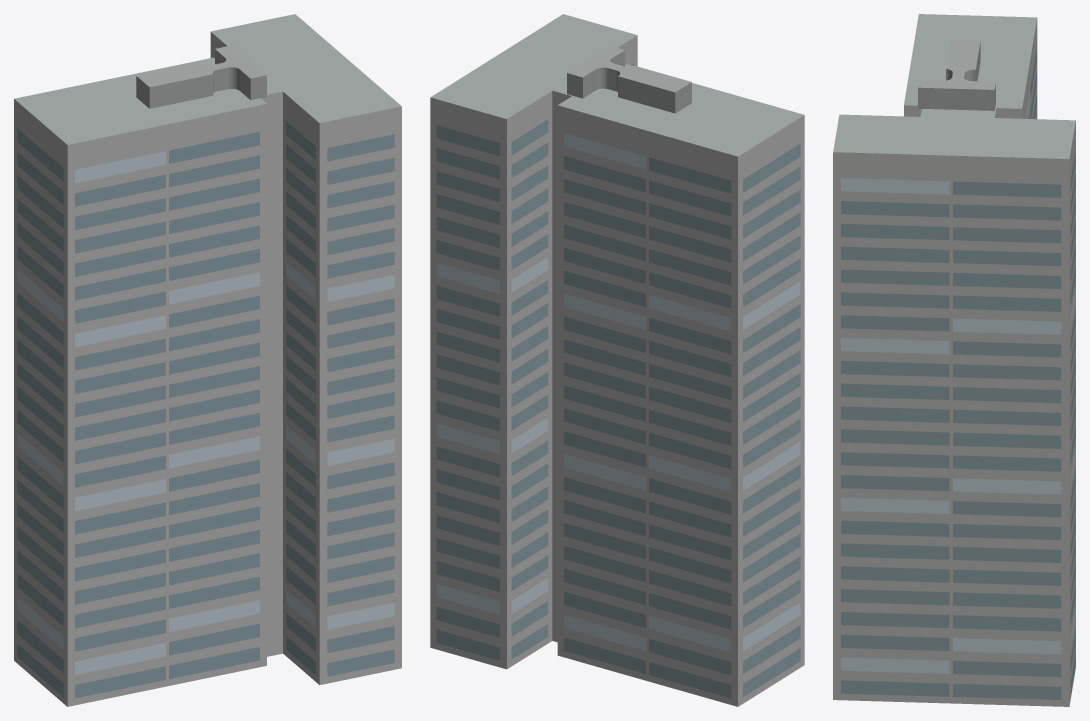
Rendered from fallback-sk-bukhansan-city-119.glb.
3 views of the same model, side by side, from view 1: azimuth 30°, elevation 25°; view 2: azimuth 150°, elevation 25°; view 3: azimuth 270°, elevation 25° (orthographic). The views are drawn at different scales.
Parts seen in each view (by area): view 1: fallback-sk-bukhansan-city-119; view 2: fallback-sk-bukhansan-city-119; view 3: fallback-sk-bukhansan-city-119.
Part boxes in pixels (x1=…): fallback-sk-bukhansan-city-119: x1=14, y1=14, x2=401, y2=706; fallback-sk-bukhansan-city-119: x1=430, y1=14, x2=804, y2=706; fallback-sk-bukhansan-city-119: x1=833, y1=14, x2=1075, y2=706.
Bounding box in the file's own units: 35.56 × 65 × 25.14.
